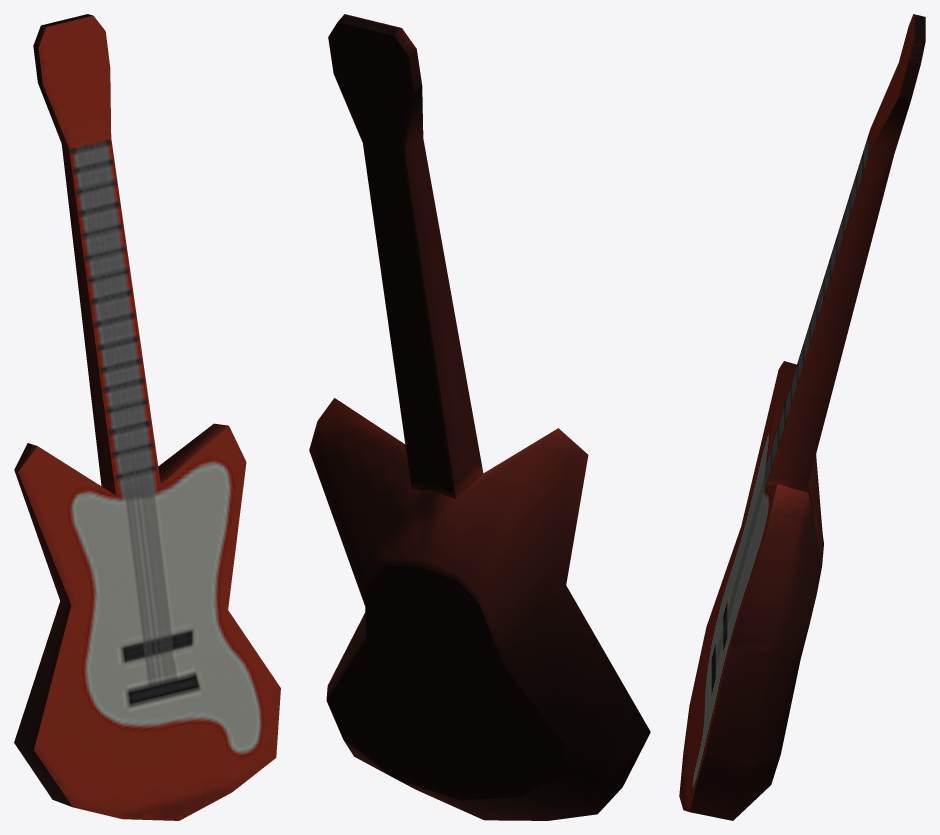
The model's file is Tx_Props_Guitar_MusicDept.fbx.
3 views of the same model, side by side, from view 1: azimuth 30°, elevation 25°; view 2: azimuth 150°, elevation 25°; view 3: azimuth 270°, elevation 25° (orthographic). The views are drawn at different scales.
Parts seen in each view (by area): view 1: Tx_Props_Guitar_MusicDept; view 2: Tx_Props_Guitar_MusicDept; view 3: Tx_Props_Guitar_MusicDept.
Part boxes in pixels (<box>): Tx_Props_Guitar_MusicDept: <box>14,14,280,820</box>; Tx_Props_Guitar_MusicDept: <box>309,14,650,820</box>; Tx_Props_Guitar_MusicDept: <box>679,14,925,820</box>.
Bounding box in the file's own units: 2.95 × 8.32 × 2.39.
